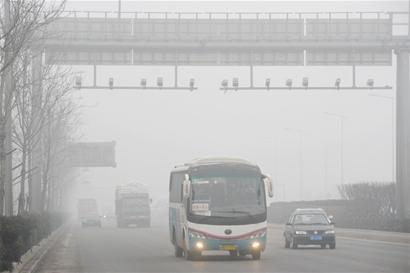bus: (168, 157, 274, 262), (114, 183, 153, 229), (77, 198, 98, 218)
car: (282, 208, 336, 250), (80, 212, 103, 228)
